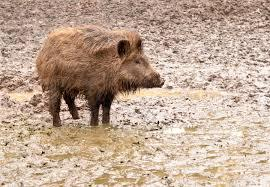wildboar: (34, 22, 165, 130)
